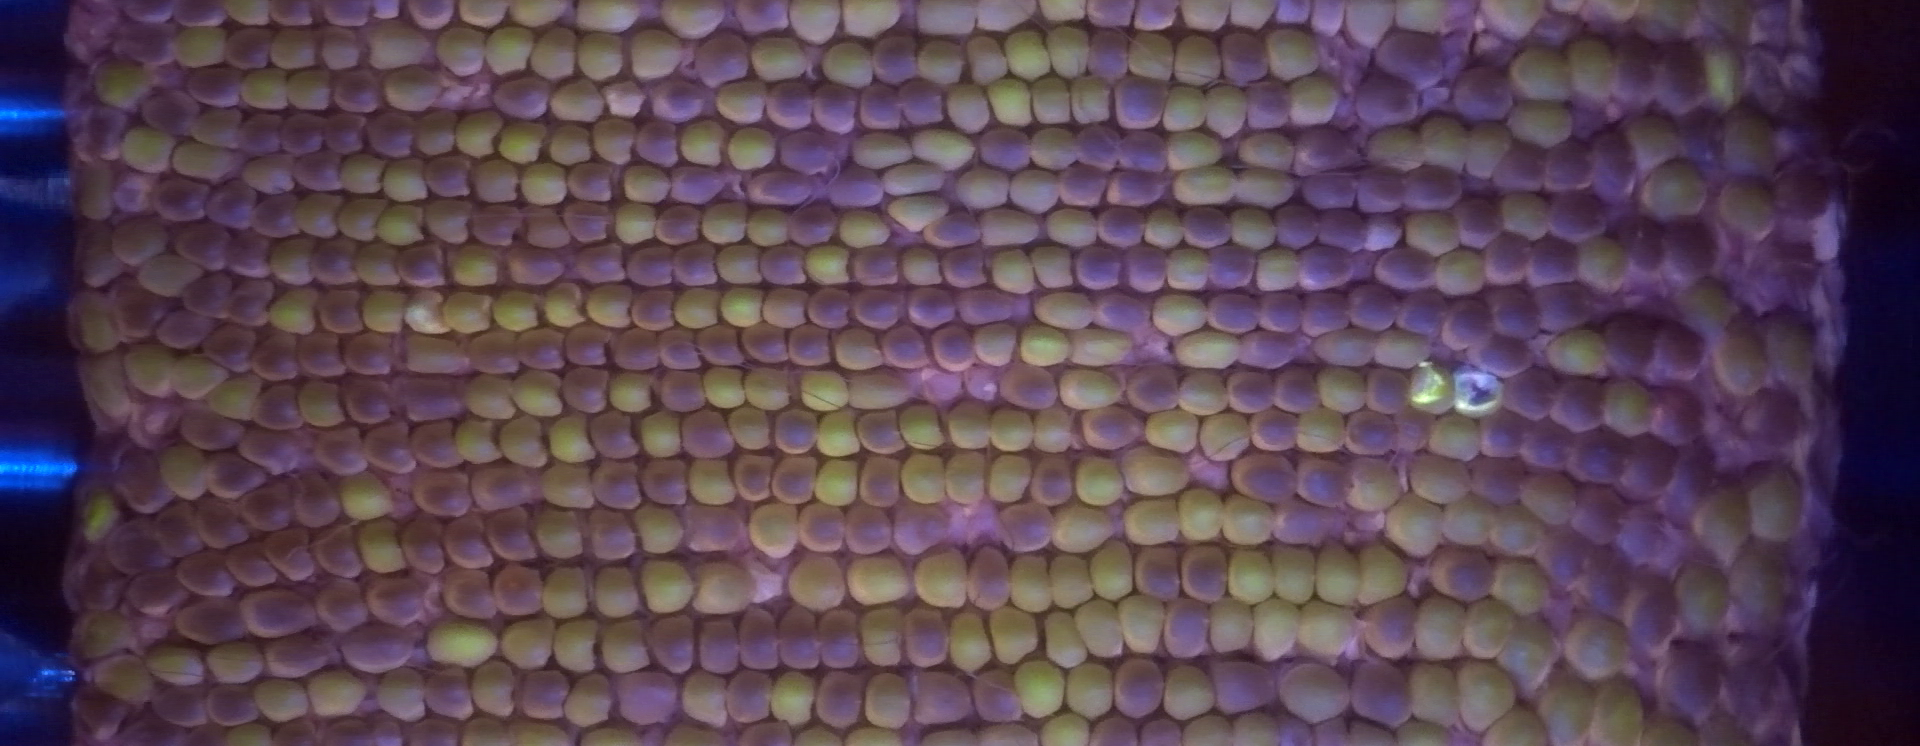fluorescent: (1716, 301, 1771, 394), (1725, 552, 1795, 622), (1758, 303, 1813, 391), (1700, 480, 1753, 568), (1747, 461, 1802, 543), (1502, 620, 1560, 695), (1536, 668, 1592, 742), (691, 559, 759, 617), (1457, 661, 1512, 733), (1294, 597, 1353, 660), (1386, 492, 1444, 557), (424, 619, 493, 671), (1411, 663, 1463, 733), (1640, 160, 1706, 216), (1565, 619, 1626, 677), (846, 550, 909, 608), (1463, 594, 1516, 661), (787, 552, 846, 612), (1491, 557, 1549, 619), (1678, 562, 1730, 628), (948, 612, 1004, 674), (89, 56, 149, 113), (912, 548, 969, 608), (1513, 43, 1573, 99), (1714, 178, 1774, 234), (70, 606, 131, 661), (1127, 443, 1191, 495), (1547, 330, 1611, 381), (1033, 611, 1089, 671), (1267, 538, 1316, 605), (1409, 452, 1473, 503), (1509, 94, 1573, 145), (1729, 107, 1776, 176), (1414, 597, 1464, 660), (1513, 470, 1576, 521), (1589, 684, 1640, 746), (122, 344, 178, 401), (642, 556, 697, 612), (1209, 594, 1256, 659), (944, 450, 996, 510), (1120, 590, 1167, 657), (1356, 543, 1406, 604), (1701, 37, 1744, 108), (1089, 539, 1136, 603), (749, 503, 802, 561), (1120, 499, 1185, 545), (355, 517, 404, 578), (1256, 595, 1299, 665), (681, 671, 733, 728), (1576, 238, 1627, 295), (1201, 405, 1251, 464), (1048, 548, 1096, 609), (1287, 78, 1341, 132), (860, 673, 913, 726), (590, 562, 642, 619), (1057, 370, 1124, 413), (913, 127, 977, 173), (69, 484, 116, 544), (1315, 541, 1358, 608), (170, 352, 227, 402), (991, 603, 1041, 659), (1078, 603, 1128, 659), (1417, 114, 1466, 171), (564, 674, 616, 728), (1266, 29, 1322, 78), (497, 619, 555, 666), (1631, 115, 1679, 173), (1140, 408, 1199, 454), (469, 661, 514, 722), (1569, 33, 1614, 93), (1491, 194, 1551, 239), (636, 501, 686, 555), (1347, 456, 1396, 511), (540, 461, 595, 510), (1018, 661, 1067, 717), (1164, 663, 1213, 718), (91, 653, 147, 701), (1607, 381, 1654, 437), (591, 113, 638, 170), (1054, 511, 1117, 554), (1011, 555, 1056, 615), (272, 285, 322, 338), (1407, 366, 1460, 416), (1444, 495, 1494, 548), (509, 369, 564, 416), (253, 677, 309, 725), (841, 369, 902, 412), (996, 448, 1038, 510), (384, 65, 442, 110), (1484, 1, 1542, 47), (552, 615, 596, 674), (1129, 29, 1180, 80), (1176, 37, 1224, 89), (162, 446, 211, 499), (377, 669, 430, 718), (599, 622, 651, 671), (1234, 168, 1298, 208), (204, 641, 268, 681), (1455, 363, 1502, 416), (887, 190, 947, 233), (658, 2, 730, 38), (437, 26, 484, 81), (1224, 494, 1271, 549), (1367, 127, 1424, 171), (171, 141, 230, 184), (631, 31, 680, 82), (686, 454, 737, 503), (1078, 454, 1127, 506), (118, 129, 170, 176), (989, 247, 1037, 300), (1319, 364, 1365, 418), (369, 23, 429, 65), (143, 649, 204, 690), (1231, 545, 1271, 606), (140, 254, 197, 296), (860, 608, 902, 665), (209, 371, 260, 420), (444, 290, 495, 339), (1178, 369, 1227, 419), (1067, 665, 1116, 715), (307, 668, 359, 715), (1430, 414, 1482, 462), (899, 402, 945, 454), (538, 510, 584, 562), (173, 23, 227, 69), (947, 399, 992, 453), (1173, 167, 1234, 206), (343, 474, 392, 523), (500, 420, 549, 469), (381, 156, 429, 206), (467, 371, 517, 419), (816, 410, 863, 461), (73, 162, 115, 219), (577, 28, 623, 80), (1020, 325, 1071, 371), (989, 75, 1035, 127), (1166, 244, 1211, 296), (550, 76, 602, 121), (801, 369, 853, 414), (820, 45, 874, 89), (268, 234, 312, 288), (1169, 129, 1224, 171), (1047, 22, 1089, 78), (1435, 247, 1483, 296), (831, 328, 882, 375), (900, 450, 947, 500), (680, 121, 731, 167), (703, 196, 748, 247), (982, 209, 1040, 250), (1180, 486, 1221, 544), (1032, 292, 1093, 330), (752, 39, 806, 82), (1155, 290, 1209, 333), (240, 64, 288, 111), (484, 27, 531, 75), (955, 168, 1011, 208), (947, 83, 992, 134), (407, 285, 452, 336), (519, 160, 569, 206), (1009, 29, 1053, 81), (1047, 206, 1098, 250), (336, 195, 380, 246), (300, 383, 351, 428), (1466, 122, 1505, 180), (789, 2, 842, 44), (916, 39, 962, 87), (1253, 247, 1300, 294), (542, 570, 589, 617), (531, 31, 580, 76), (1032, 122, 1078, 171), (498, 124, 549, 168), (640, 410, 684, 461), (588, 283, 631, 334), (1402, 212, 1456, 252), (842, 2, 904, 38), (362, 288, 409, 334), (729, 404, 774, 452), (1033, 243, 1078, 292), (493, 289, 542, 333), (725, 129, 775, 171), (544, 122, 594, 165), (802, 243, 852, 285), (770, 673, 813, 723), (1205, 87, 1247, 138), (449, 247, 503, 287), (839, 211, 893, 250), (456, 111, 502, 157), (547, 412, 593, 458), (1494, 507, 1540, 552), (458, 416, 502, 464), (1076, 327, 1131, 365), (271, 28, 321, 70), (1007, 170, 1057, 212), (673, 283, 724, 325), (715, 81, 767, 121), (542, 282, 588, 327), (1378, 330, 1427, 371), (1035, 407, 1075, 457), (1180, 333, 1244, 365), (1164, 85, 1207, 131), (992, 409, 1035, 456), (813, 461, 860, 503), (849, 134, 910, 165), (748, 370, 793, 413), (617, 198, 659, 245), (700, 366, 748, 407), (191, 105, 240, 145), (883, 157, 940, 190), (1231, 207, 1273, 251), (1300, 408, 1344, 451), (1069, 76, 1111, 121), (899, 250, 944, 292), (1032, 77, 1071, 125), (1238, 132, 1292, 167), (380, 206, 430, 243), (1139, 205, 1182, 247), (75, 307, 118, 350), (718, 243, 759, 287), (577, 1, 636, 32), (340, 152, 382, 195), (298, 191, 338, 235), (976, 323, 1018, 365), (722, 285, 764, 327), (291, 69, 334, 109), (624, 165, 670, 203), (749, 207, 791, 247), (610, 371, 651, 412), (356, 252, 403, 288), (1400, 4, 1440, 33)
nonfluorescent: (1660, 642, 1720, 723), (1621, 570, 1678, 655), (1351, 658, 1411, 726), (339, 621, 416, 673), (615, 669, 680, 728), (896, 600, 951, 668), (240, 586, 313, 635), (1654, 42, 1703, 115), (111, 450, 167, 514), (1665, 218, 1722, 281), (115, 279, 170, 343), (1649, 385, 1704, 448), (1624, 432, 1673, 503), (1363, 601, 1420, 661), (1224, 452, 1297, 500), (1582, 545, 1630, 617), (105, 516, 169, 570), (911, 671, 975, 725), (400, 374, 470, 423), (1537, 282, 1602, 334), (686, 502, 746, 559), (1664, 451, 1706, 530), (1749, 390, 1802, 451), (1427, 548, 1491, 598), (1356, 69, 1422, 118), (1293, 126, 1362, 173), (588, 410, 645, 465), (1453, 65, 1509, 122), (1774, 164, 1828, 223), (1378, 29, 1438, 82), (1537, 527, 1589, 587), (178, 598, 244, 646), (1179, 539, 1228, 603), (1605, 307, 1654, 371), (1111, 73, 1168, 127), (973, 674, 1027, 731), (1618, 213, 1665, 278), (1273, 503, 1346, 546), (1464, 336, 1540, 376), (1569, 426, 1624, 481), (891, 502, 948, 556), (1134, 543, 1180, 608), (1573, 481, 1620, 546), (1215, 661, 1276, 710), (73, 220, 118, 288), (1209, 284, 1261, 341), (175, 409, 239, 456), (778, 610, 824, 674), (1116, 660, 1164, 720), (468, 465, 529, 513), (1652, 322, 1700, 383), (1299, 457, 1353, 511), (208, 321, 261, 376), (514, 666, 567, 722), (1502, 367, 1558, 420), (313, 578, 371, 628), (267, 633, 331, 679), (240, 432, 300, 480), (154, 305, 216, 352), (444, 517, 496, 572), (1441, 294, 1491, 350), (180, 550, 238, 599), (1236, 328, 1299, 372), (1082, 405, 1142, 452), (1618, 33, 1654, 109), (590, 462, 643, 514), (446, 571, 498, 624), (493, 71, 547, 122), (1487, 289, 1540, 341), (313, 426, 369, 477), (495, 561, 545, 616), (1484, 232, 1534, 287), (970, 549, 1011, 615), (1403, 167, 1466, 211), (149, 175, 209, 220), (1521, 421, 1572, 474), (193, 499, 247, 549), (727, 673, 778, 726), (1493, 145, 1549, 192), (649, 615, 696, 673), (1548, 196, 1605, 243), (1371, 249, 1434, 292), (121, 573, 180, 619), (418, 469, 476, 514), (311, 529, 362, 581), (486, 513, 538, 565), (366, 578, 418, 630), (696, 36, 748, 86), (1220, 36, 1270, 88), (242, 480, 296, 529), (414, 423, 468, 472), (816, 673, 863, 728), (402, 518, 444, 579), (1527, 236, 1577, 288), (1398, 287, 1449, 338), (213, 450, 266, 499), (73, 685, 122, 737), (1296, 244, 1351, 290), (1000, 503, 1056, 550), (812, 78, 857, 135), (369, 421, 414, 478), (1164, 603, 1206, 664), (998, 365, 1056, 409), (171, 220, 222, 271), (252, 382, 302, 432), (642, 456, 691, 507), (699, 620, 742, 679), (1460, 195, 1502, 254), (141, 87, 193, 135), (420, 671, 473, 719), (820, 606, 858, 673), (422, 152, 478, 197), (246, 195, 302, 239), (800, 499, 844, 555), (654, 77, 703, 127), (520, 323, 571, 372), (847, 507, 896, 557), (206, 180, 257, 228), (1555, 382, 1607, 430), (562, 364, 609, 416), (75, 552, 121, 605), (781, 130, 836, 174), (1311, 325, 1375, 363), (740, 608, 778, 671), (573, 243, 629, 285), (673, 240, 722, 289), (1184, 200, 1234, 247), (1131, 370, 1182, 418), (340, 379, 392, 425), (680, 414, 731, 461), (1249, 408, 1300, 454), (1598, 132, 1632, 202), (1109, 170, 1168, 211), (833, 169, 891, 209), (509, 245, 564, 288), (156, 502, 198, 557), (255, 331, 302, 380), (296, 331, 344, 380), (315, 285, 362, 334), (1343, 409, 1391, 458), (860, 83, 906, 134), (1367, 369, 1413, 419), (670, 164, 721, 209), (591, 512, 637, 563), (1090, 292, 1147, 332), (227, 541, 279, 586), (561, 323, 616, 365), (847, 245, 902, 287), (850, 292, 905, 333), (613, 323, 661, 371), (806, 281, 853, 328), (1542, 143, 1589, 191), (225, 24, 272, 73), (1351, 287, 1400, 333), (366, 111, 416, 157), (291, 477, 337, 527), (896, 78, 948, 122), (291, 149, 343, 194), (190, 64, 242, 107), (1118, 127, 1171, 170), (116, 24, 174, 64), (156, 688, 214, 726), (767, 81, 812, 130), (1209, 244, 1258, 289), (1224, 371, 1273, 416), (564, 160, 615, 205), (344, 331, 394, 375), (731, 457, 781, 501), (855, 410, 905, 454), (872, 34, 915, 86), (393, 243, 444, 285), (773, 454, 816, 506), (1247, 81, 1288, 134), (92, 108, 133, 160), (468, 331, 520, 372), (924, 208, 982, 246), (749, 171, 813, 206), (905, 289, 959, 330), (1297, 292, 1351, 332), (693, 321, 740, 367), (1356, 164, 1403, 209), (1273, 205, 1318, 254), (564, 203, 613, 247), (519, 207, 569, 250), (269, 528, 311, 579), (1031, 461, 1073, 512), (1056, 168, 1109, 207), (863, 456, 902, 510), (185, 277, 231, 322), (1483, 412, 1529, 457), (322, 108, 366, 156), (775, 408, 819, 456), (1314, 209, 1369, 247), (784, 327, 834, 369), (655, 371, 705, 413), (929, 322, 970, 374), (317, 239, 356, 292), (224, 233, 269, 278), (628, 246, 673, 292), (744, 323, 790, 369), (332, 70, 378, 114), (241, 111, 288, 156), (1258, 292, 1302, 338), (211, 688, 264, 726), (762, 241, 811, 283), (958, 289, 1013, 326), (316, 27, 362, 70), (276, 111, 322, 154), (471, 201, 519, 243), (1091, 27, 1128, 81), (1076, 247, 1120, 292), (883, 325, 927, 369), (1272, 367, 1316, 412), (1125, 243, 1167, 289), (655, 198, 696, 246), (980, 130, 1031, 167), (1304, 167, 1356, 203), (634, 122, 680, 164), (1078, 121, 1118, 168), (228, 279, 266, 327), (1100, 206, 1145, 245), (943, 249, 989, 285), (661, 326, 699, 370), (789, 209, 835, 245), (634, 290, 673, 331), (110, 170, 149, 208)
